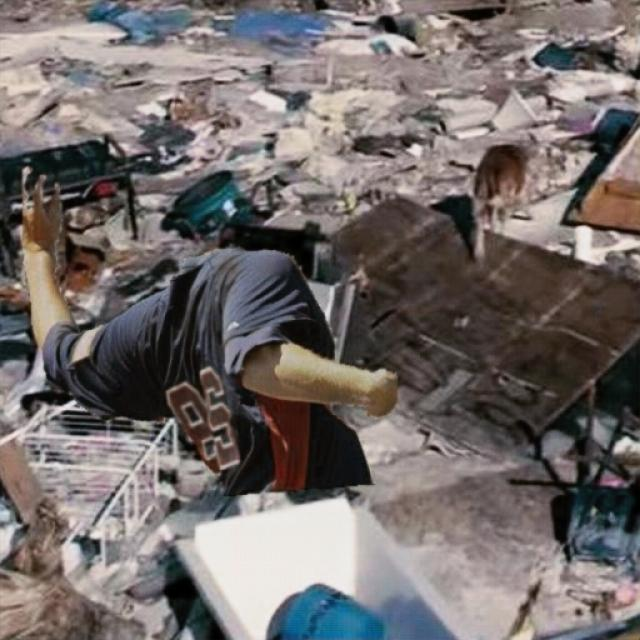Person in Rubble: (22, 165, 396, 495)
